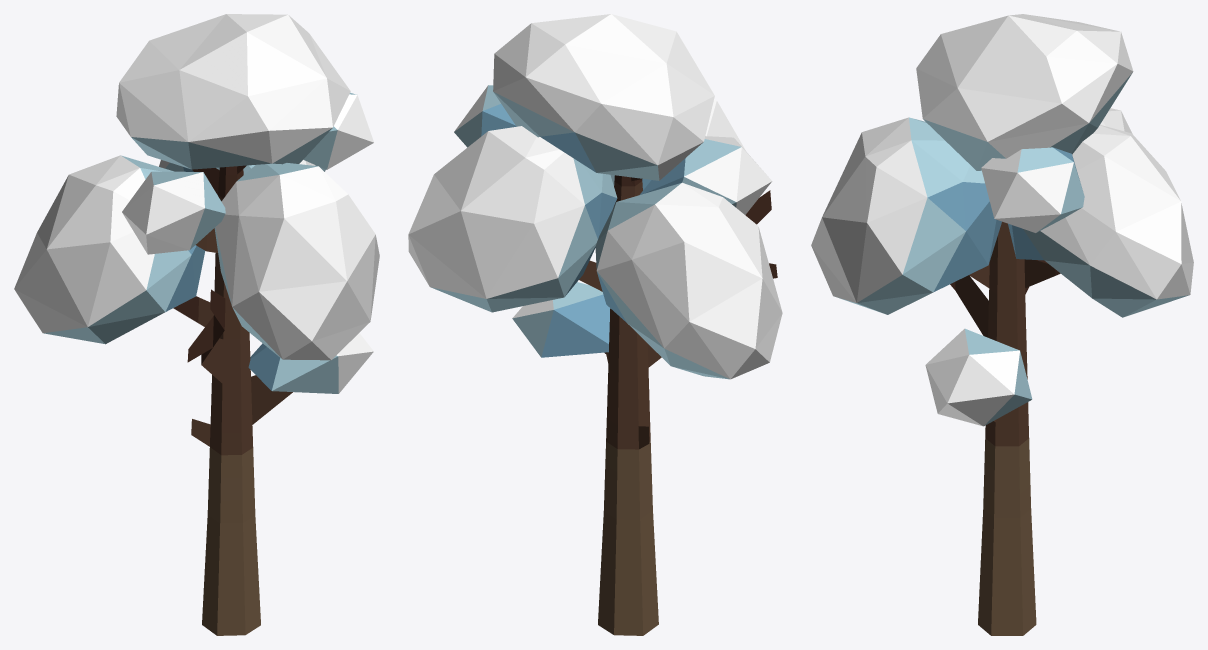
The model's file is treeOak2.fbx.
3 views of the same model, side by side, from view 1: azimuth 30°, elevation 25°; view 2: azimuth 150°, elevation 25°; view 3: azimuth 270°, elevation 25° (orthographic). The views are drawn at different scales.
Parts seen in each view (by area): view 1: bushTop, bushLarge, bushLarge_2, treeBase, bushMedium, bushMedium_1, bushMedium_2; view 2: bushLarge_1, bushTop, bushLarge_2, treeBase, bushMedium_1, bushMedium, bushMedium_2, bushLarge; view 3: bushLarge, bushTop, bushLarge_1, treeBase, bushMedium_1, bushMedium_2.
Boxes of the visible parts, box(x1,y1,x2,y2) form: bushTop: box(116, 14, 350, 169); bushLarge: box(214, 163, 379, 360); bushLarge_2: box(14, 155, 205, 344); treeBase: box(173, 165, 292, 635); bushMedium: box(122, 171, 225, 254); bushMedium_1: box(248, 333, 373, 393); bushMedium_2: box(303, 92, 373, 169); bushLarge_1: box(408, 126, 617, 312); bushTop: box(493, 14, 714, 180); bushLarge_2: box(595, 182, 782, 379); treeBase: box(579, 175, 777, 635); bushMedium_1: box(512, 282, 610, 357); bushMedium: box(640, 136, 772, 214); bushMedium_2: box(454, 85, 516, 147); bushLarge: box(610, 100, 746, 189); bushLarge: box(811, 117, 1001, 314); bushTop: box(916, 14, 1133, 170); bushLarge_1: box(1008, 125, 1193, 317); treeBase: box(950, 221, 1060, 635); bushMedium_1: box(925, 328, 1032, 426); bushMedium_2: box(981, 147, 1084, 232).
Bounding box in the file's own units: 602 × 1078 × 606.
2 materials, 2 textured.
